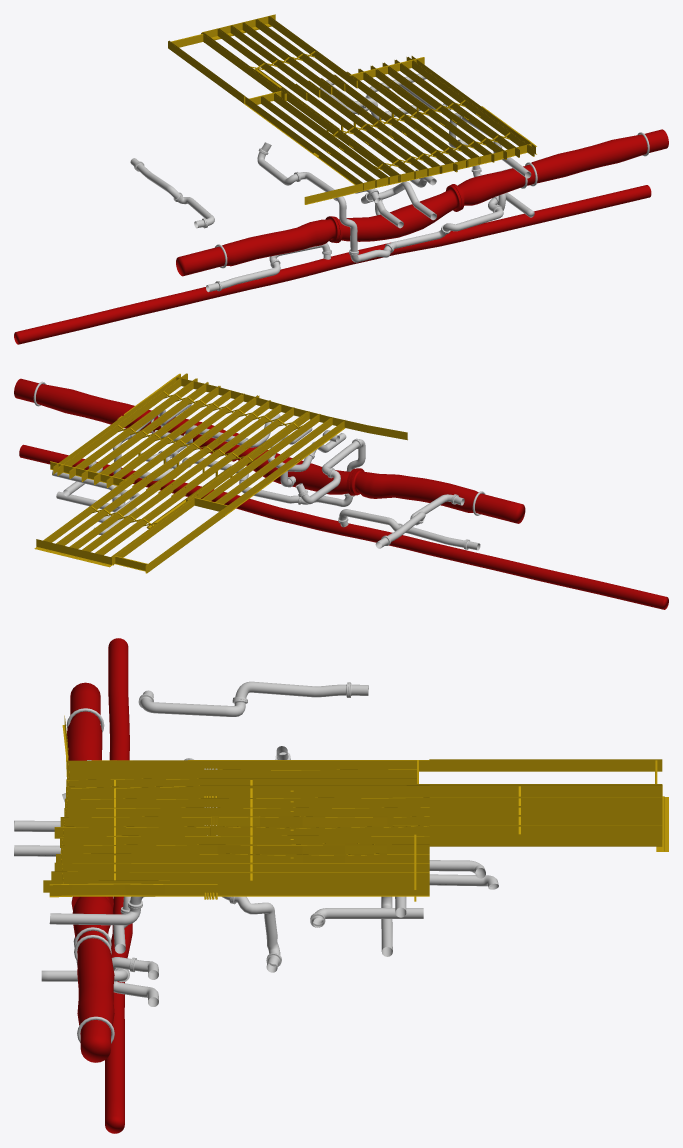
The model's file is Furniture_Test_part2.fbx.
3 renders of one model, top to bottom at view 1: azimuth 30°, elevation 25°; view 2: azimuth 150°, elevation 25°; view 3: azimuth 270°, elevation 25°, orthographic. The views are drawn at different scales.
Visible parts, largest first — view 1: ceiling_2x9s, Main_Pipe, lg_pipe_1, med_pipe_2, med_Y_pipe, med_pipe_5, med_pipe_6; view 2: ceiling_2x9s, Main_Pipe, lg_pipe_1, med_pipe_2, med_pipe_6, med_pipe_5, med_Y_pipe, polySurface42, polySurface43, polySurface35; view 3: ceiling_2x9s, Main_Pipe, lg_pipe_1, med_pipe_5, polySurface49, polySurface43, polySurface45, med_pipe_1, med_Y_pipe, polySurface42, med_pipe_2.
Part boxes in pixels (x1,y1,x2,y2): ceiling_2x9s: (168,14,536,204); Main_Pipe: (176,129,668,276); lg_pipe_1: (14,185,651,344); med_pipe_2: (257,142,534,262); med_Y_pipe: (361,181,436,228); med_pipe_5: (130,158,214,228); med_pipe_6: (206,243,331,292); ceiling_2x9s: (34,373,407,573); Main_Pipe: (14,378,525,523); lg_pipe_1: (19,444,668,609); med_pipe_2: (166,438,365,506); med_pipe_6: (338,509,480,550); med_pipe_5: (375,494,464,548); med_Y_pipe: (268,427,346,487); polySurface42: (52,470,136,535); polySurface43: (56,490,139,522); polySurface35: (154,414,280,447); ceiling_2x9s: (43,715,668,901); Main_Pipe: (67,682,114,1062); lg_pipe_1: (105,638,132,1133); med_pipe_5: (138,681,368,716); polySurface49: (49,896,281,972); polySurface43: (381,860,485,956); polySurface45: (310,908,423,927); med_pipe_1: (111,957,158,1006); med_Y_pipe: (14,820,60,856); polySurface42: (395,874,498,917); med_pipe_2: (41,746,290,982).
Size of the model in its own units: 2031 by 303 by 1181.
